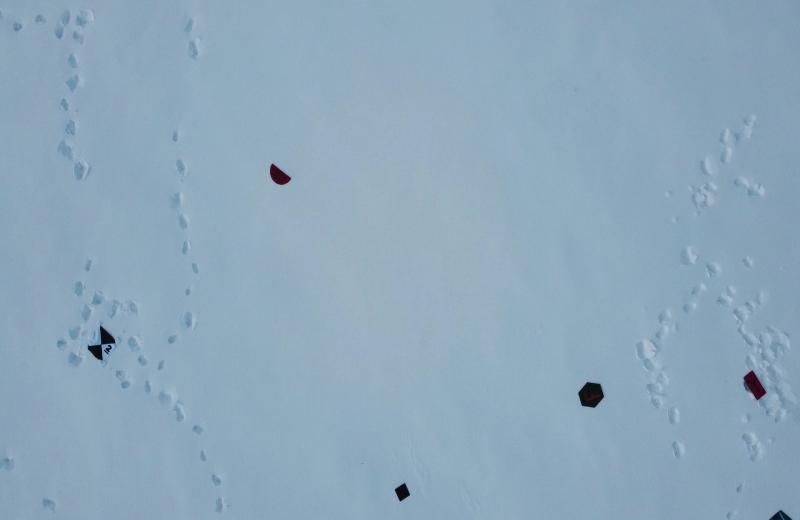Hexagon: (576, 374, 607, 408)
Rectangle: (741, 364, 767, 404)
Semi Circle: (268, 161, 293, 192)
Square: (392, 479, 414, 504)
